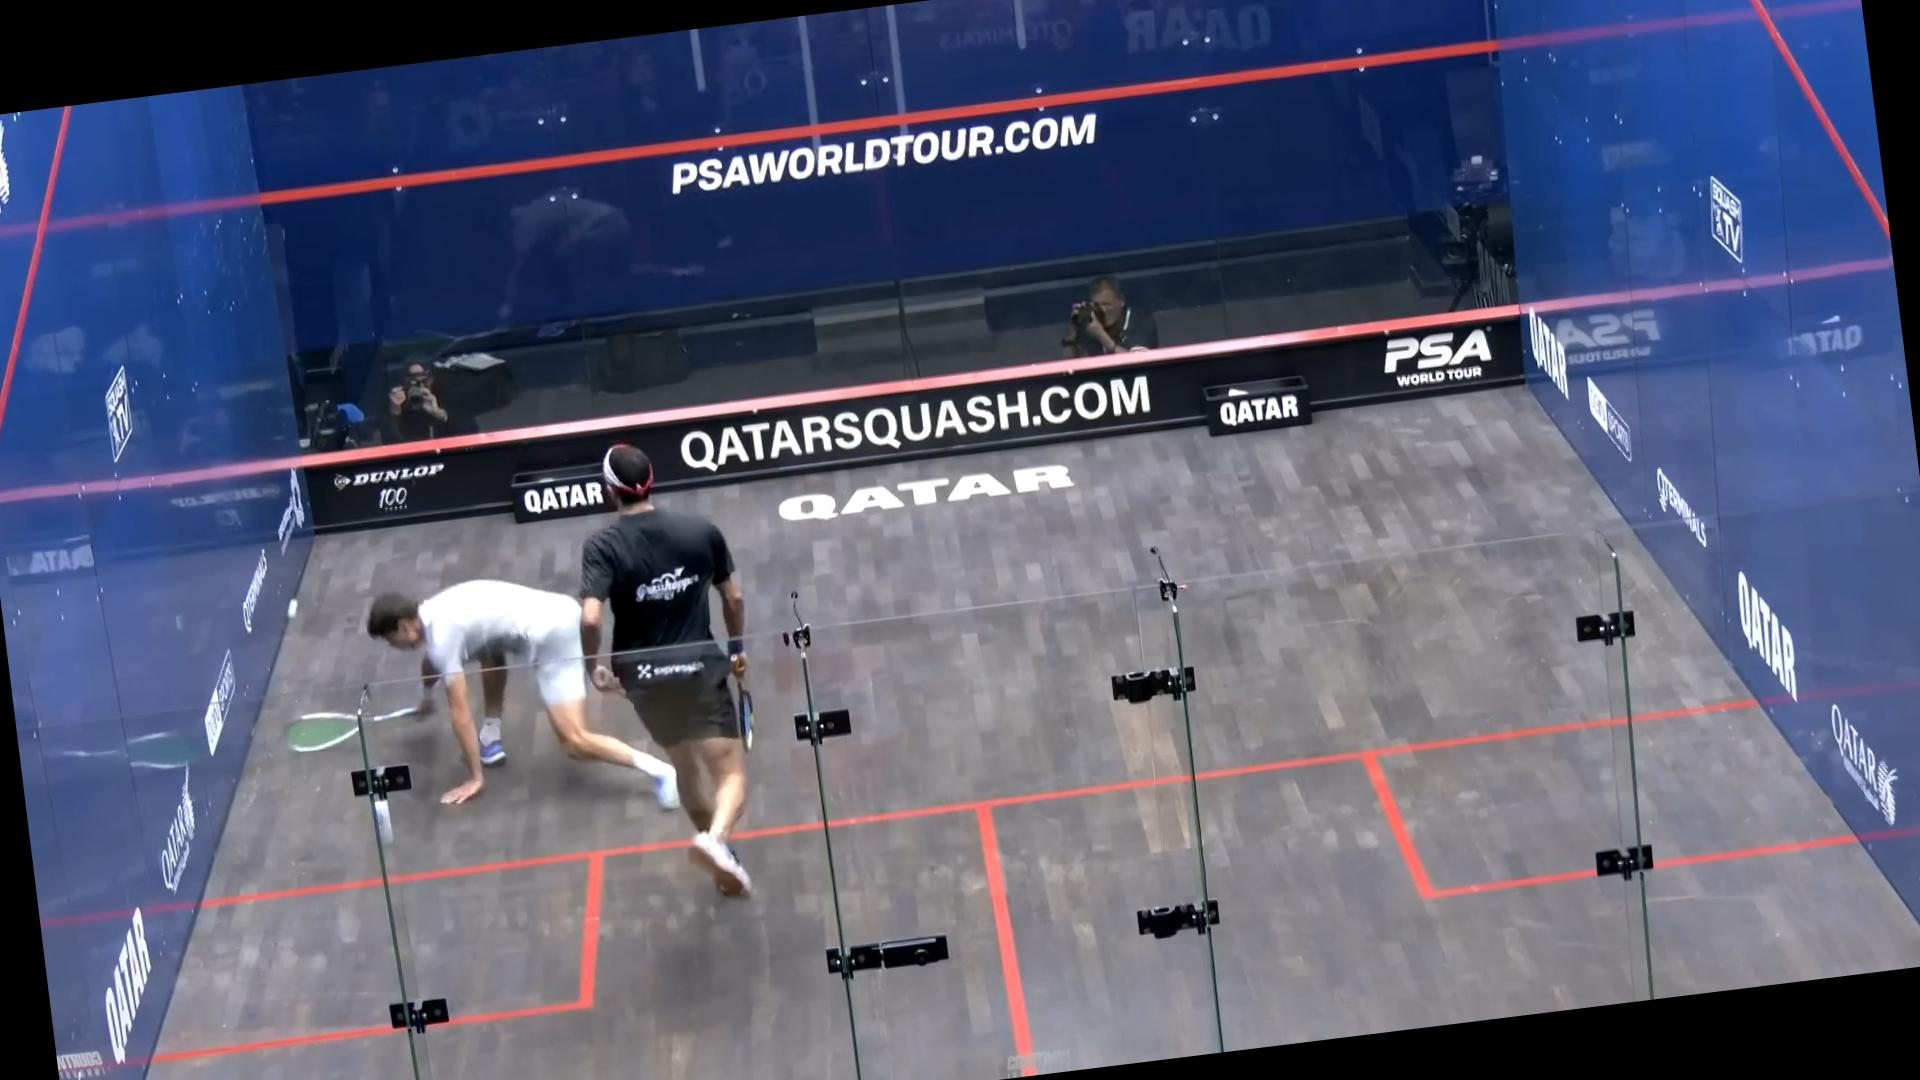Racket: (272, 687, 431, 771), (727, 669, 770, 754)
